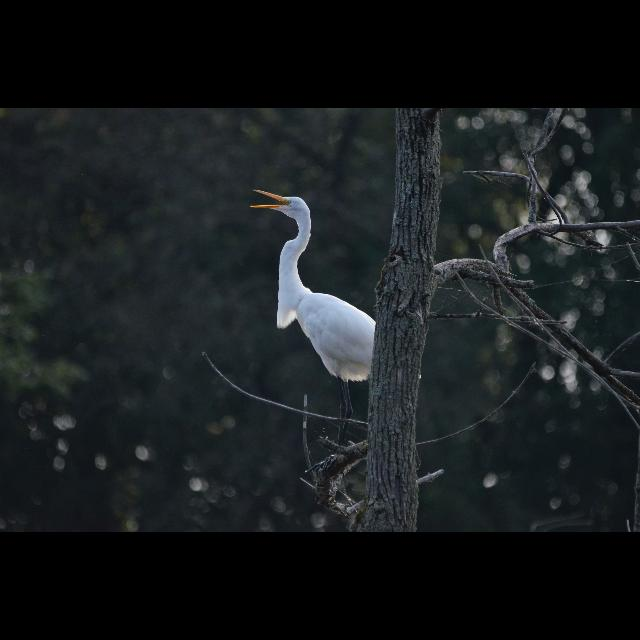egret: (238, 184, 382, 390)
